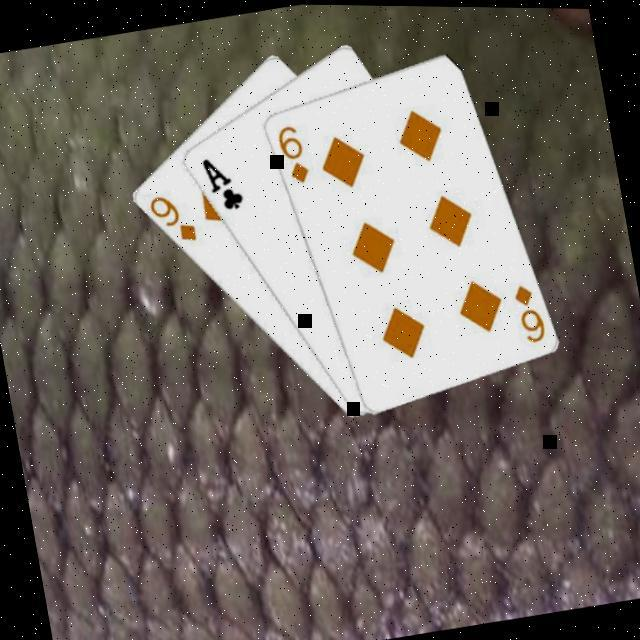6D: (272, 119, 314, 187), (509, 278, 551, 346)
9D: (144, 187, 201, 251)
AC: (197, 149, 248, 217)
